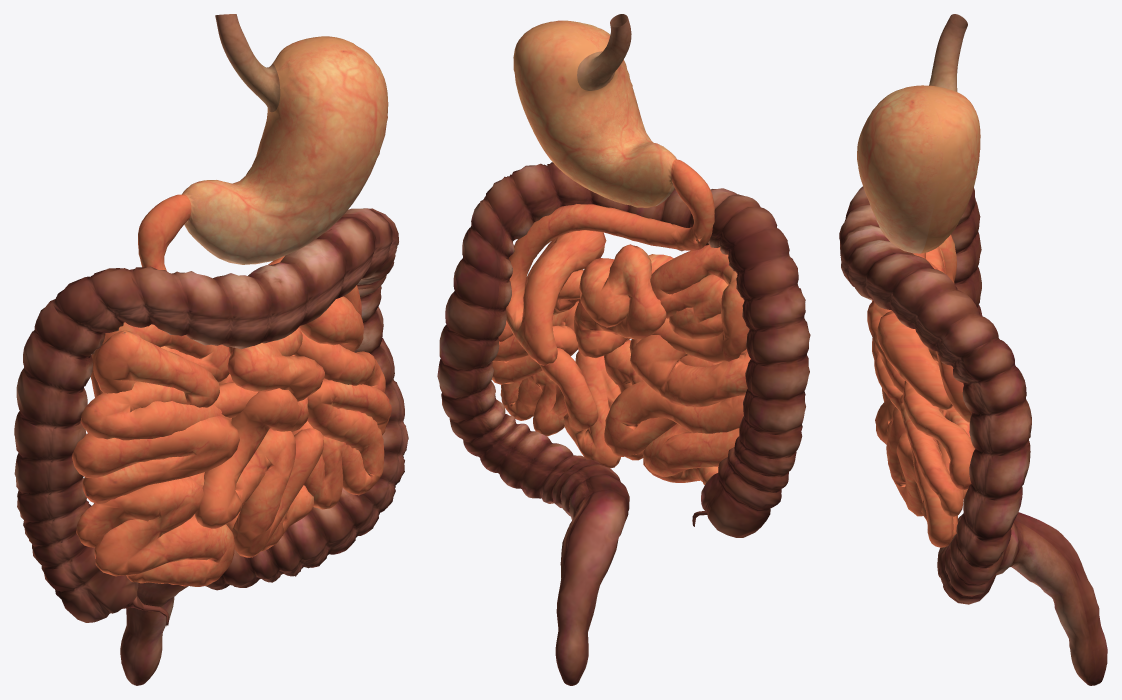
The picture shows the model from 3 angles, left to right: view 1: azimuth 30°, elevation 25°; view 2: azimuth 150°, elevation 25°; view 3: azimuth 270°, elevation 25°; orthographic projection. The views are drawn at different scales.
Visible parts, largest first — view 1: DigestiveSystem; view 2: DigestiveSystem; view 3: DigestiveSystem.
Boxes of the visible parts, box(x1,y1,x2,y2) form: DigestiveSystem: box(14, 14, 408, 685); DigestiveSystem: box(437, 14, 810, 685); DigestiveSystem: box(839, 14, 1107, 685).
Size of the model in its own units: 0.0745 by 0.1268 by 0.0457.
1 material, 1 textured.
